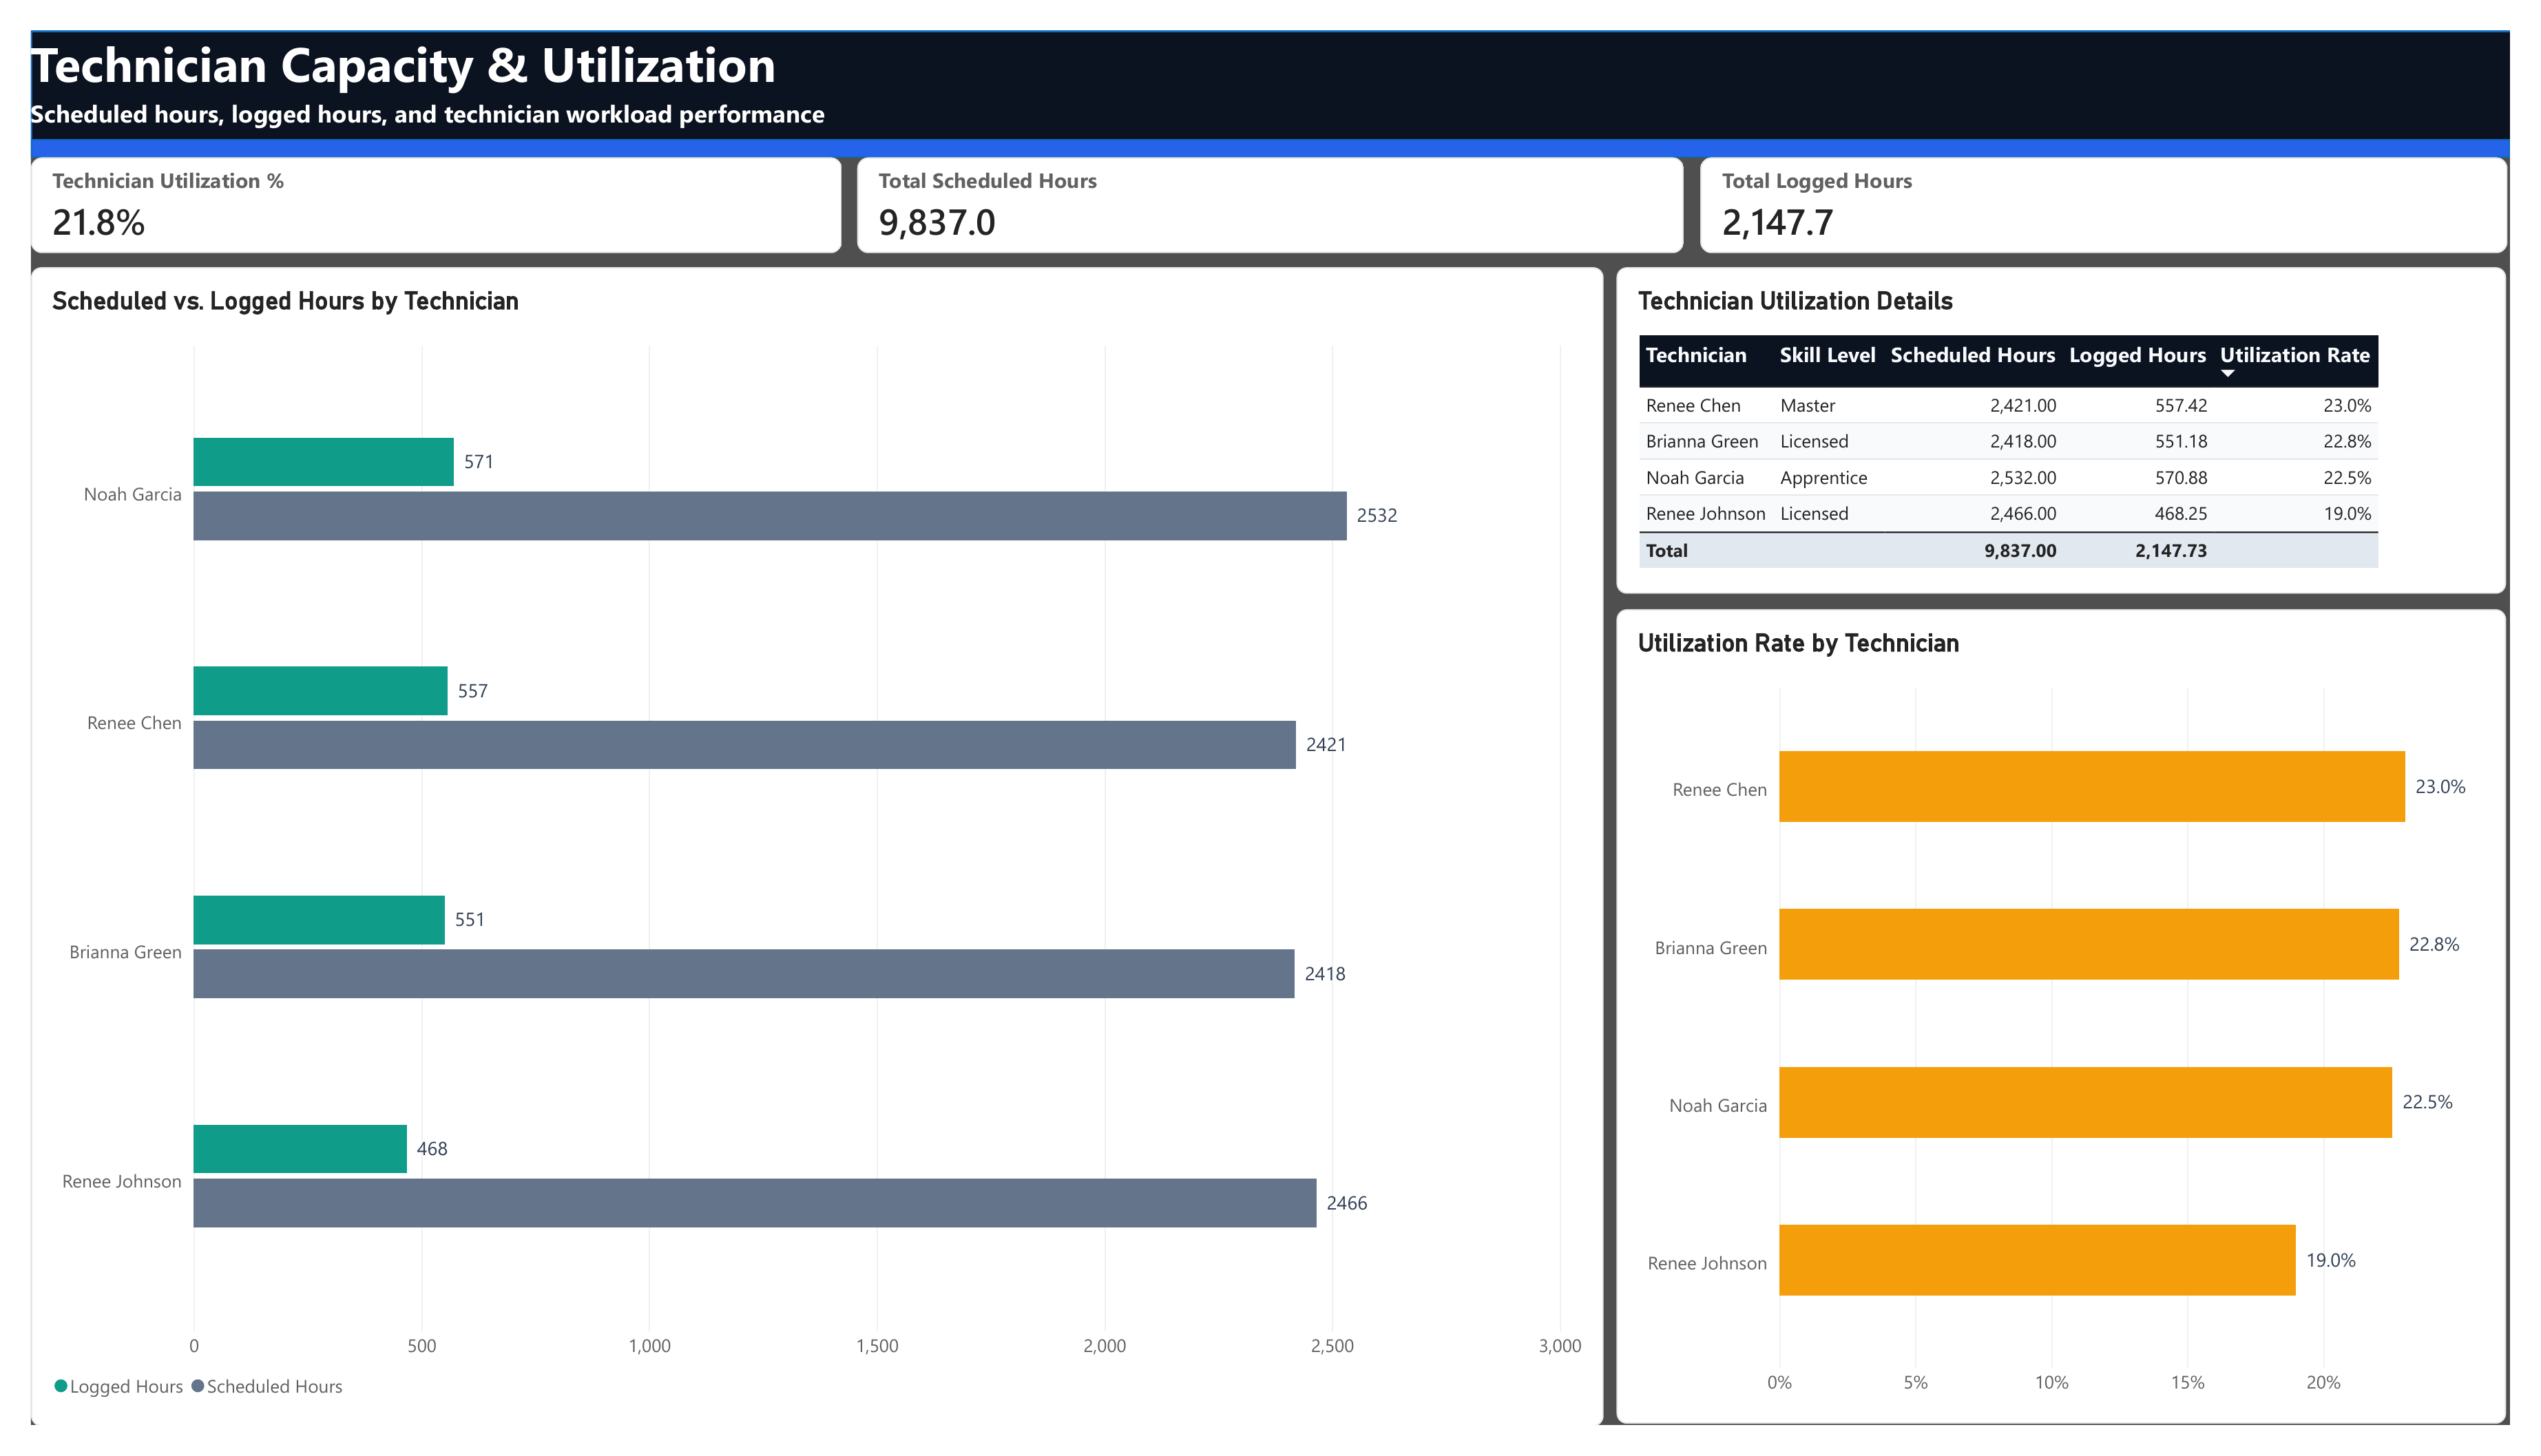

The page's visual inventory and layout, read from the dashboard file:
{"tool":"powerbi","page":{"name":"Technician Capacity & Utilization","canvas":[1920,1080],"ordinal":2},"visuals":[{"type":"shape","box":[0,0,1920.5,98.1],"z":0},{"type":"shape","box":[0,84.4,1920,14.1],"z":1000},{"type":"textbox","box":[0,0,588.7,51.4],"z":2000},{"type":"textbox","box":[0,51.4,638.8,25.7],"z":3000},{"type":"cardVisual","fields":{"Data":["vw_TechnicianUtilization.Technician Utilization %"]},"box":[0,98.5,628.4,74.9],"z":4000},{"type":"cardVisual","fields":{"Data":["Sum(vw_TechnicianUtilization.ScheduledHours)"]},"box":[639.5,98.5,640.9,74.9],"z":5000},{"type":"cardVisual","fields":{"Data":["Sum(vw_TechnicianUtilization.LoggedHours)"]},"box":[1292.9,98.5,625.7,74.9],"z":6000},{"type":"clusteredBarChart","title":"Scheduled vs. Logged Hours by Technician","fields":{"Category":["vw_TechnicianUtilization.TechnicianName"],"Y":["Sum(vw_TechnicianUtilization.LoggedHours)","Sum(vw_TechnicianUtilization.ScheduledHours)"]},"box":[0,183.1,1218,897.6],"z":7000},{"type":"tableEx","title":"Technician Utilization Details","fields":{"Values":["vw_TechnicianUtilization.TechnicianName","vw_TechnicianUtilization.SkillLevel","Sum(vw_TechnicianUtilization.ScheduledHours)","Sum(vw_TechnicianUtilization.LoggedHours)","vw_TechnicianUtilization.UtilizationRate"]},"box":[1227.7,183.1,689.5,252.5],"z":8000},{"type":"clusteredBarChart","title":"Utilization Rate by Technician","fields":{"Category":["vw_TechnicianUtilization.TechnicianName"],"Y":["vw_TechnicianUtilization.Technician Utilization %"]},"box":[1228.3,448.2,688.6,631.2],"z":8001}]}

Visuals, with their boxes in screenshot pixels (x1, y1, x2, y2), scaled from the page's 1920x1080 canvas onto the 2541x1456 screenshot:
shape: l=0, t=0, r=2540, b=132
shape: l=0, t=114, r=2540, b=133
textbox: l=0, t=0, r=779, b=70
textbox: l=0, t=70, r=846, b=104
cardVisual - vw_TechnicianUtilization.Technician Utilization %: l=0, t=133, r=832, b=234
cardVisual - Sum(vw_TechnicianUtilization.ScheduledHours): l=846, t=133, r=1695, b=234
cardVisual - Sum(vw_TechnicianUtilization.LoggedHours): l=1711, t=133, r=2539, b=234
"Scheduled vs. Logged Hours by Technician" clusteredBarChart: l=0, t=247, r=1612, b=1455
"Technician Utilization Details" tableEx: l=1624, t=247, r=2538, b=587
"Utilization Rate by Technician" clusteredBarChart: l=1626, t=604, r=2537, b=1455
